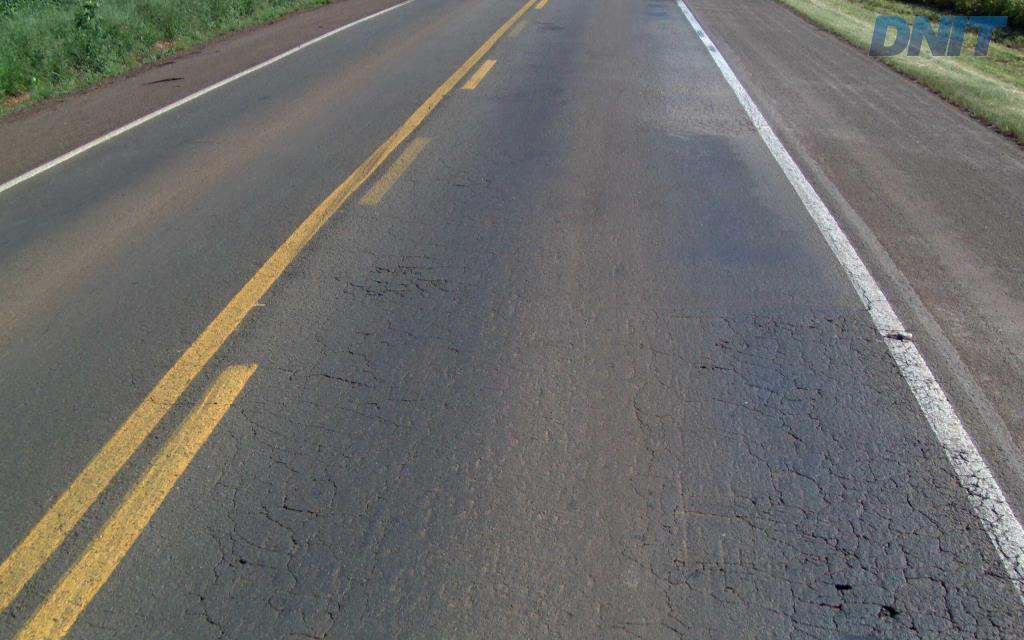pothole: (869, 602, 896, 618), (829, 579, 858, 591)
